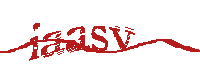a: (42, 31, 64, 58), (67, 26, 86, 52)
i: (29, 23, 40, 62)
s: (89, 23, 111, 53)
v: (110, 23, 135, 54)
